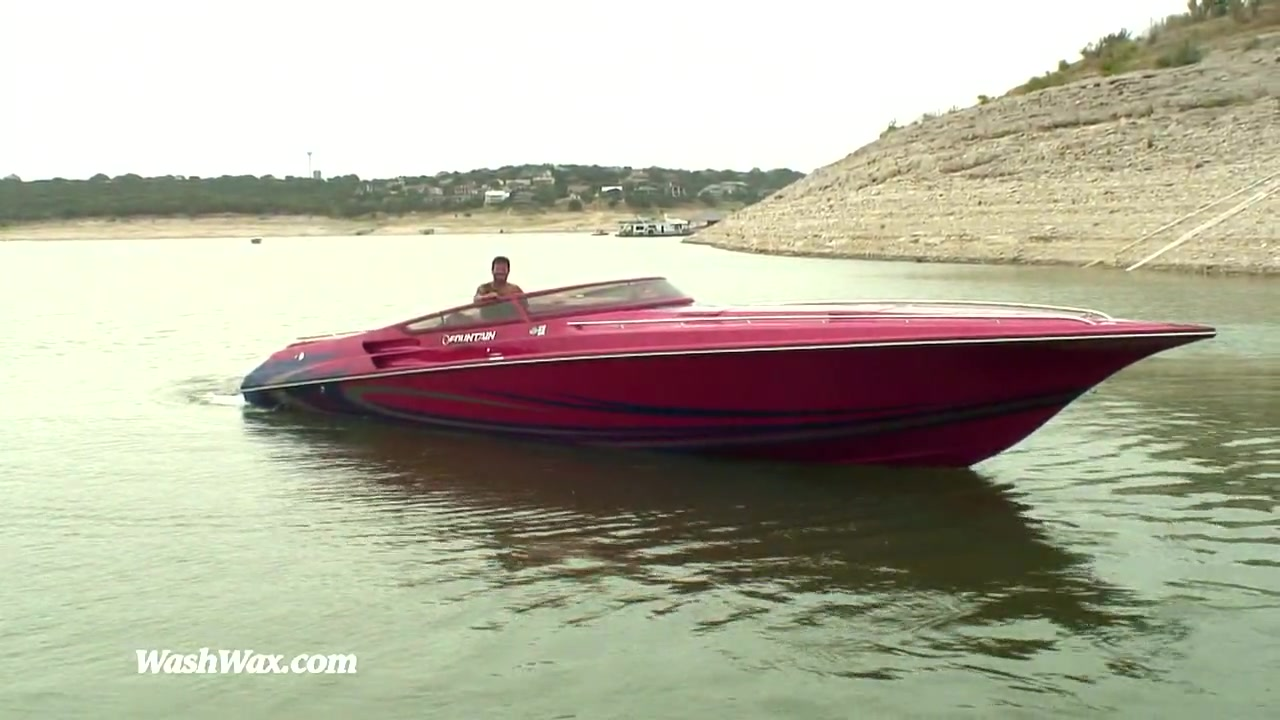boat: (242, 276, 1222, 466)
